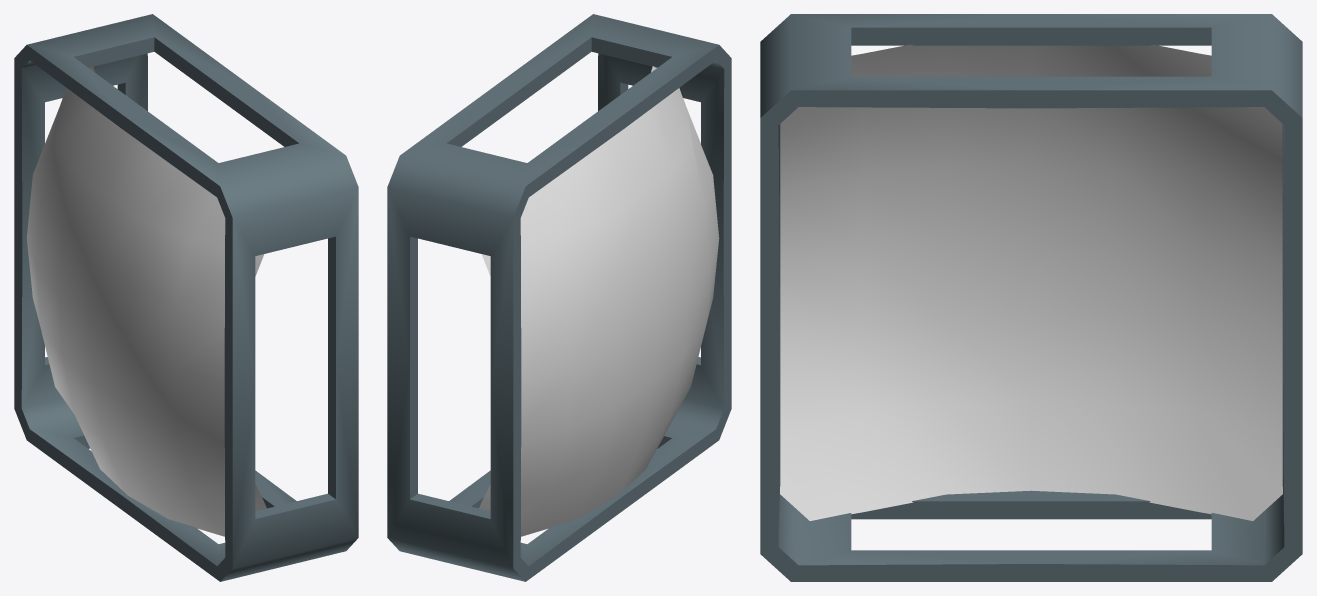
Rendered from fant_sail_frame_3x3_B.fbx.
The picture shows the model from 3 angles, left to right: view 1: azimuth 30°, elevation 25°; view 2: azimuth 150°, elevation 25°; view 3: azimuth 270°, elevation 25°; orthographic projection. The views are drawn at different scales.
Visible parts, largest first — view 1: fant_sail_frame_3x3.001; view 2: fant_sail_frame_3x3.001; view 3: fant_sail_frame_3x3.001.
Boxes of the visible parts, x1,y1,x2,y2 form: fant_sail_frame_3x3.001: (14, 14, 358, 581); fant_sail_frame_3x3.001: (387, 14, 731, 581); fant_sail_frame_3x3.001: (760, 14, 1302, 581).
Bounding box in the file's own units: 127 × 300 × 300.
